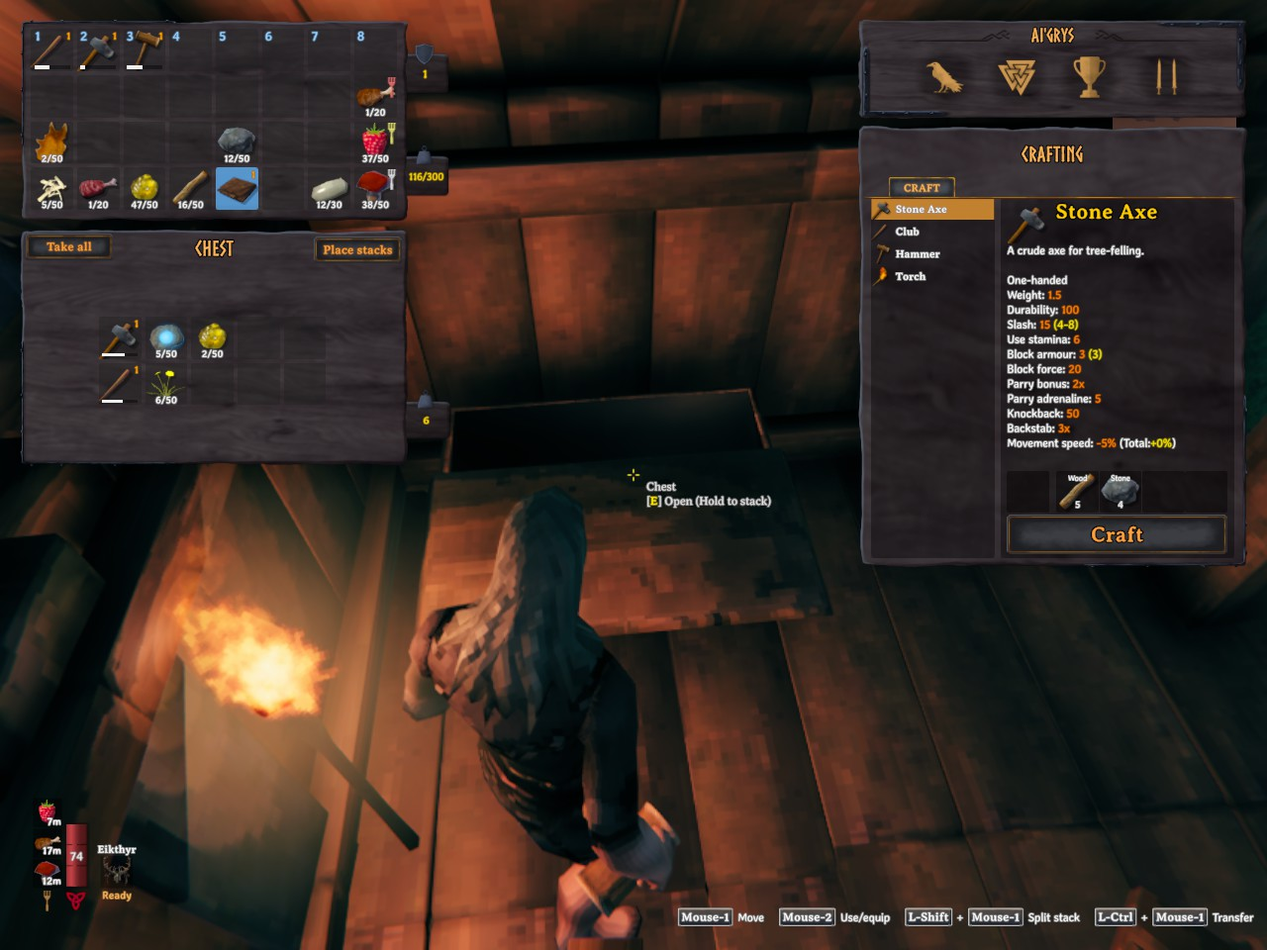Chest: (414, 396, 836, 630)
Craft Button: (1010, 517, 1229, 555)
Crafting Menu: (861, 130, 1243, 568)
Food Indicator: (36, 797, 63, 891)
Health Bar: (63, 820, 90, 891)
Hotbar: (25, 21, 398, 78)
Inventory: (19, 19, 405, 218)
Loot: (22, 231, 402, 460)
Torch: (170, 595, 419, 855)
